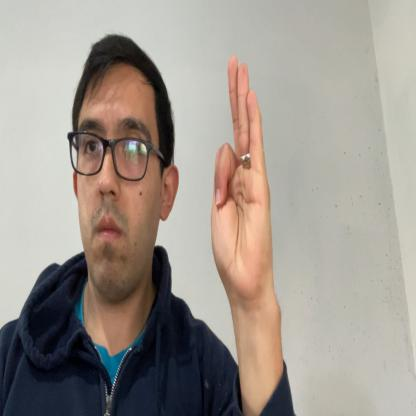F: (210, 53, 274, 300)
